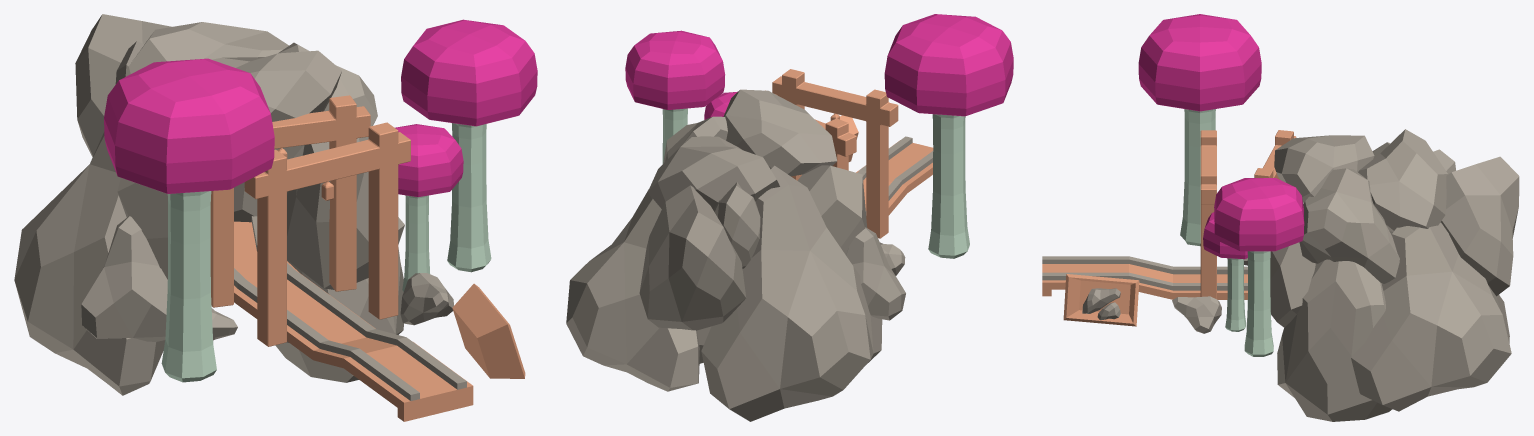
Rendered from AgpModel.fbx.
The picture shows the model from 3 angles, left to right: view 1: azimuth 30°, elevation 25°; view 2: azimuth 150°, elevation 25°; view 3: azimuth 270°, elevation 25°; orthographic projection. The views are drawn at different scales.
Visible parts, largest first — view 1: Cube, rock.007, Cube.004, Cube.001, Cube.005, Cube.002, rock.005, Cube.003, rock, rock.001, rock.003, rock.002 (+7 smaller); view 2: rock.007, Cube, rock.008, rock.001, Cube.004, rock.003, Cube.001, rock.002, rock.006, rock.005, Cube.005, rock.009 (+4 smaller); view 3: rock.008, Cube, rock.004, Cube.004, rock.001, rock.010, rock.002, Cube.005, rock.003, rock, Cube.006, Cube.001 (+4 smaller).
Boxes of the visible parts, left/top/right/bottom form: Cube: left=104, top=58, right=274, bottom=382; rock.007: left=14, top=132, right=165, bottom=395; Cube.004: left=401, top=19, right=537, bottom=272; Cube.001: left=244, top=122, right=410, bottom=346; Cube.005: left=234, top=216, right=473, bottom=421; Cube.002: left=210, top=95, right=370, bottom=307; rock.005: left=81, top=216, right=167, bottom=341; Cube.003: left=395, top=124, right=463, bottom=291; rock: left=287, top=137, right=368, bottom=289; rock.001: left=75, top=14, right=171, bottom=157; rock.003: left=212, top=50, right=341, bottom=121; rock.002: left=128, top=22, right=288, bottom=73; rock.007: left=701, top=165, right=882, bottom=421; Cube: left=884, top=14, right=1013, bottom=258; rock.008: left=566, top=189, right=699, bottom=391; rock.001: left=639, top=185, right=746, bottom=330; Cube.004: left=625, top=30, right=725, bottom=163; rock.003: left=723, top=89, right=837, bottom=176; Cube.001: left=772, top=69, right=898, bottom=238; rock.002: left=648, top=136, right=779, bottom=209; rock.006: left=797, top=165, right=867, bottom=254; rock.005: left=846, top=227, right=905, bottom=320; Cube.005: left=856, top=136, right=933, bottom=215; rock.009: left=713, top=182, right=760, bottom=268; rock.008: left=1351, top=222, right=1511, bottom=411; Cube: left=1138, top=14, right=1261, bottom=246; rock.004: left=1277, top=259, right=1392, bottom=421; Cube.004: left=1214, top=178, right=1304, bottom=356; rock.001: left=1440, top=156, right=1519, bottom=296; rock.010: left=1299, top=168, right=1399, bottom=283; rock.002: left=1358, top=129, right=1447, bottom=231; Cube.005: left=1042, top=256, right=1247, bottom=299; rock.003: left=1274, top=135, right=1374, bottom=202; rock: left=1270, top=202, right=1315, bottom=327; Cube.006: left=1063, top=274, right=1139, bottom=326; Cube.001: left=1200, top=130, right=1216, bottom=299.
Bounding box in the file's own units: 633 × 562 × 811.
